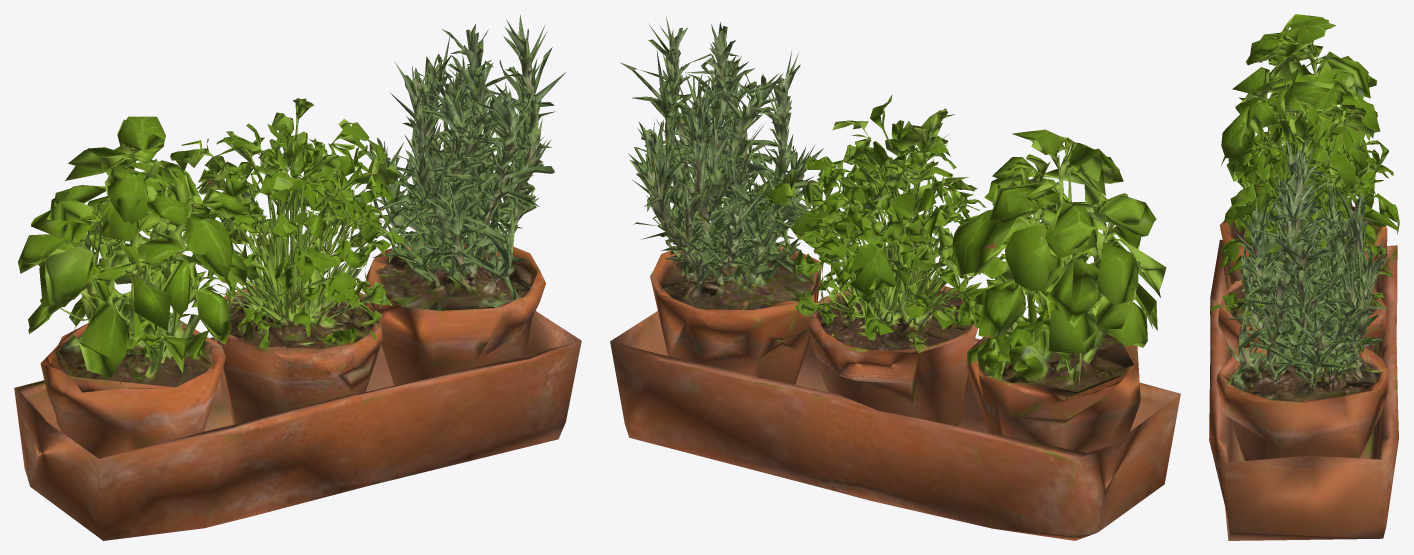
File: desktop.glb
3 views of the same model, side by side, from view 1: azimuth 30°, elevation 25°; view 2: azimuth 150°, elevation 25°; view 3: azimuth 270°, elevation 25° (orthographic). The views are drawn at different scales.
Parts seen in each view (by area): view 1: d-herbpots; view 2: d-herbpots; view 3: d-herbpots.
Part boxes in pixels (x1,y1,x2,y2): d-herbpots: (14,14,581,540); d-herbpots: (610,15,1180,540); d-herbpots: (1209,14,1399,540).
Bounding box in the file's own units: 0.4839 × 0.3523 × 0.1626.
1 material, 1 textured.
